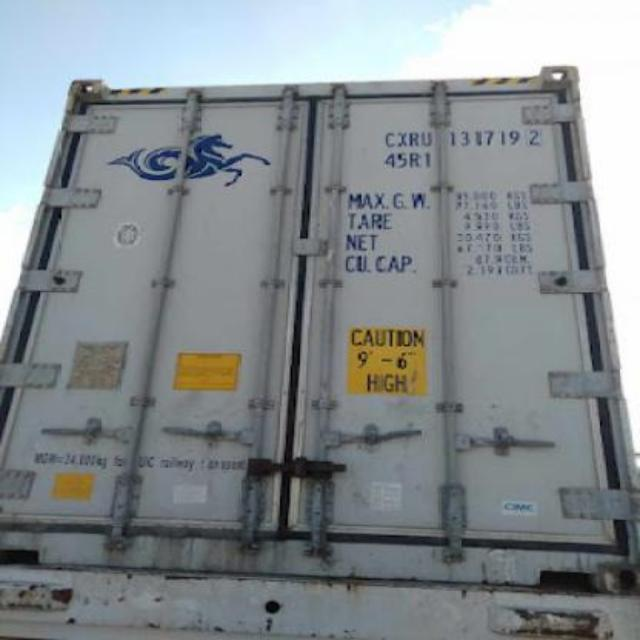1: (446, 124, 458, 148), (470, 124, 482, 148), (498, 125, 508, 152)
2: (528, 124, 544, 146)
3: (458, 125, 470, 148)
7: (480, 124, 496, 148)
9: (508, 122, 524, 148)
C: (382, 125, 396, 148)
R: (408, 118, 420, 148)
U: (420, 125, 436, 149)
X: (396, 125, 409, 151)
